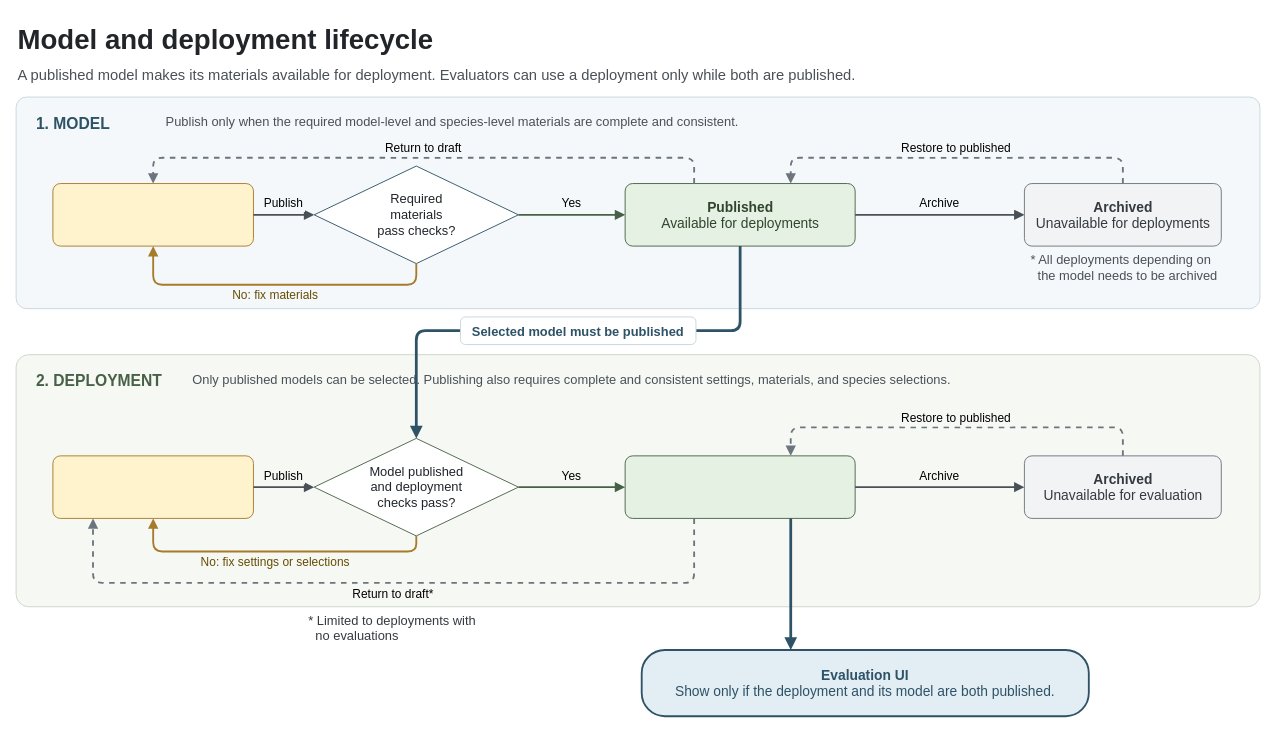
The diagram is 1276 pixels wide and 732 high, and some of its shapes have lost their labels. Each missing label, with the centre of its shape:
"Draft Create and edit deployment" belongs at (x=152, y=486).
"Draft Create and edit materials" belongs at (x=152, y=214).
"Published Eligible for evaluation" belongs at (x=739, y=486).
